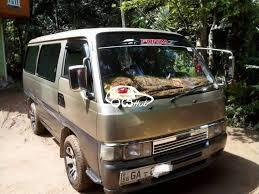van: (20, 30, 225, 188)
